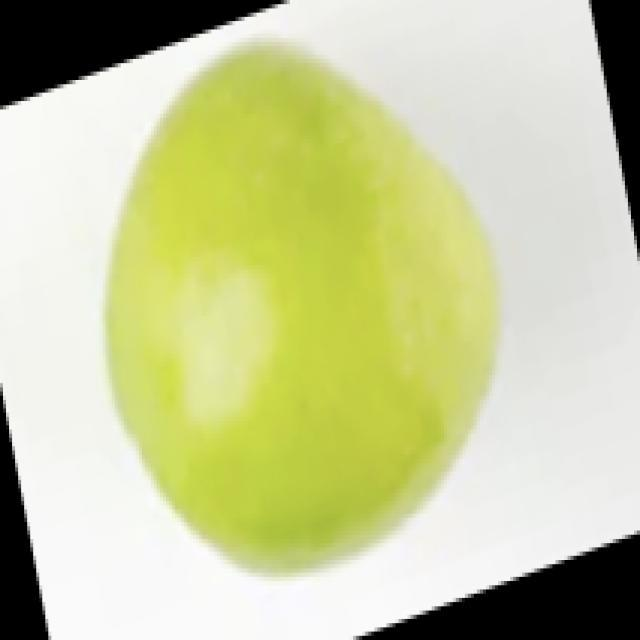Fresh Apple: (107, 65, 480, 553)
